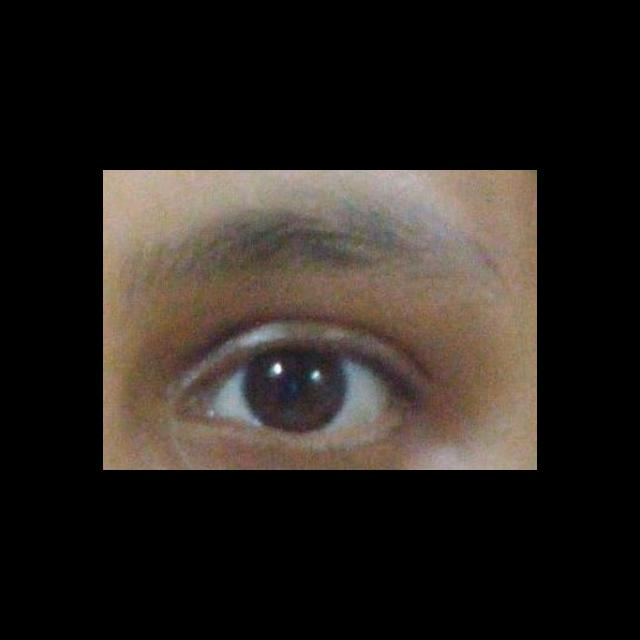eye: (206, 349, 397, 433)
iris: (245, 352, 346, 430)
